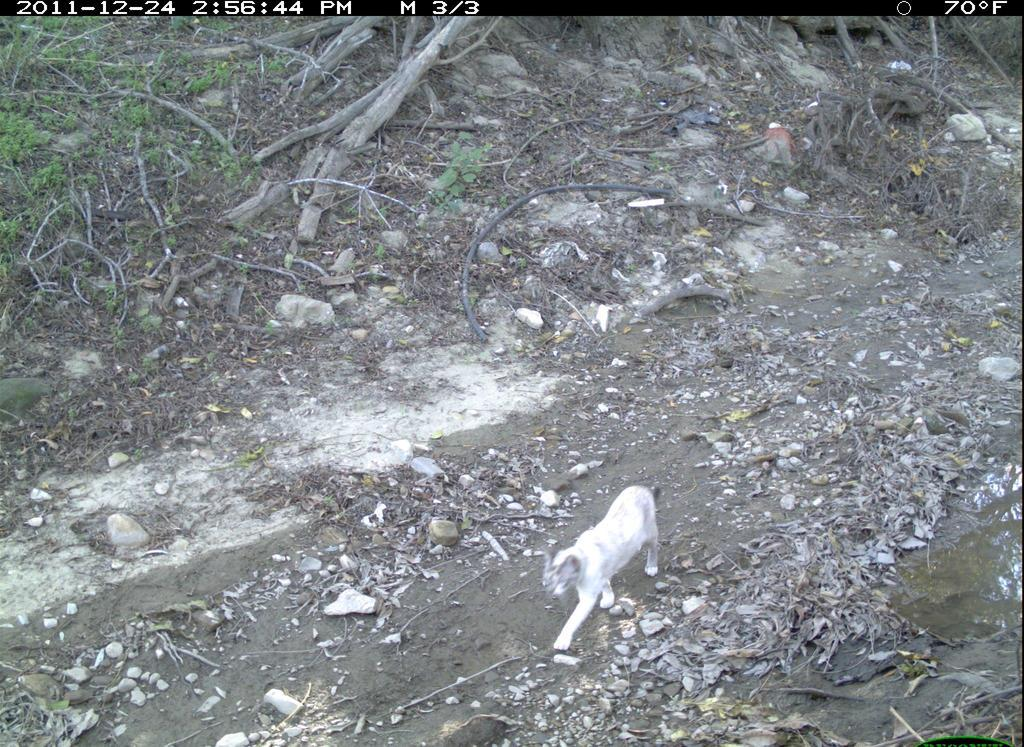cat: (541, 477, 674, 673)
